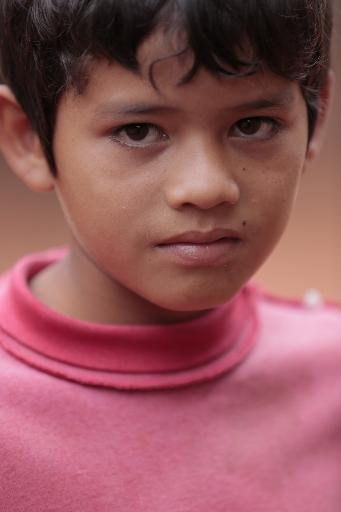left_eye: (226, 115, 285, 145)
left_lip_corner: (236, 234, 248, 247)
right_eye: (103, 120, 171, 152)
right_lip_corner: (150, 238, 166, 255)
